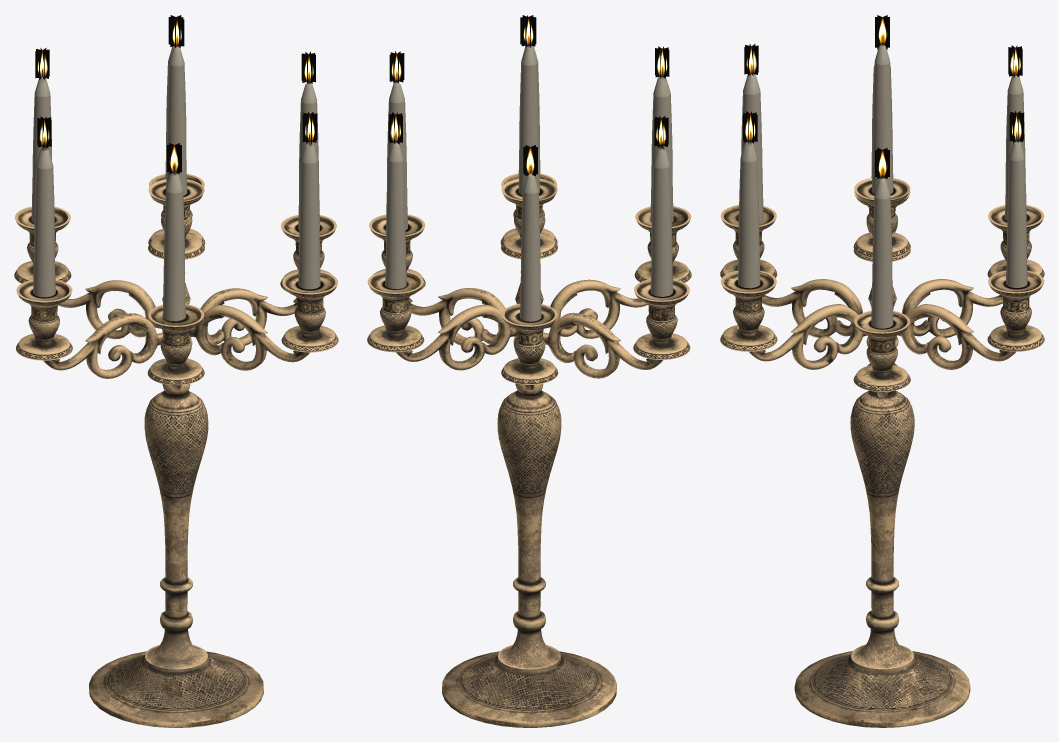
File: brass_candleholder_03.gltf
3 views of the same model, side by side, from view 1: azimuth 30°, elevation 25°; view 2: azimuth 150°, elevation 25°; view 3: azimuth 270°, elevation 25° (orthographic).
Visible parts, largest first — view 1: brass_candleholder_03; view 2: brass_candleholder_03; view 3: brass_candleholder_03.
Part boxes in pixels (x1=…): brass_candleholder_03: x1=14, y1=15, x2=338, y2=727; brass_candleholder_03: x1=367, y1=15, x2=691, y2=727; brass_candleholder_03: x1=720, y1=15, x2=1044, y2=727.
Size of the model in its own units: 0.4083 by 0.8353 by 0.3647.
2 materials, 2 textured.
